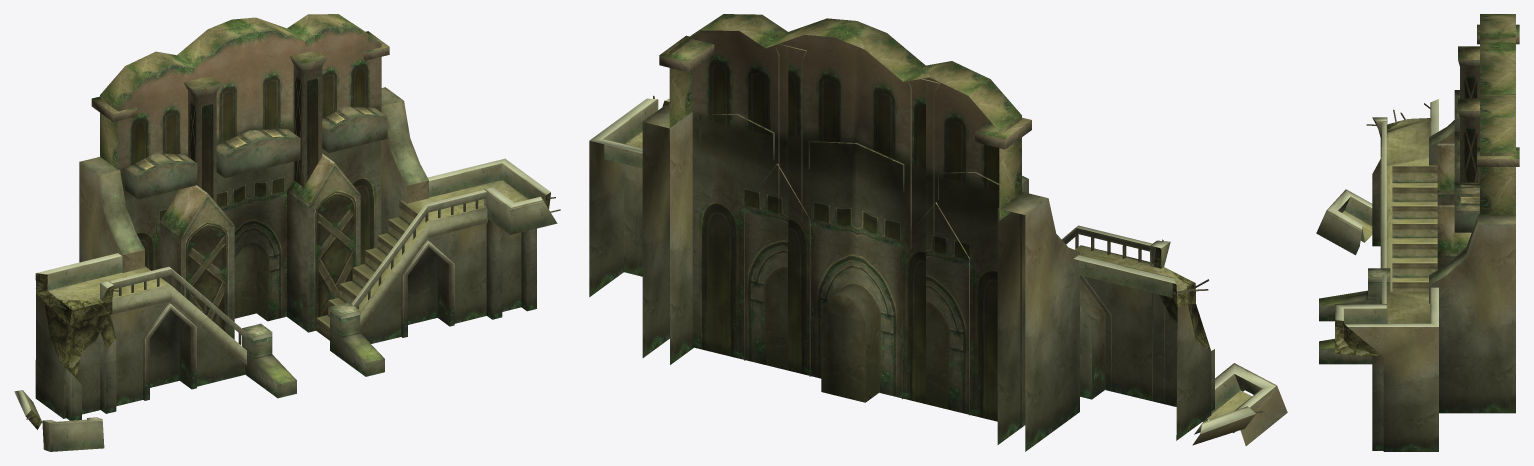
The model's file is CZ_Chengbao.FBX.
3 views of the same model, side by side, from view 1: azimuth 30°, elevation 25°; view 2: azimuth 150°, elevation 25°; view 3: azimuth 270°, elevation 25° (orthographic). The views are drawn at different scales.
Parts seen in each view (by area): view 1: CZ_Chengbao; view 2: CZ_Chengbao; view 3: CZ_Chengbao.
Boxes of the visible parts, <box> form: CZ_Chengbao: <box>14,14,560,451</box>; CZ_Chengbao: <box>589,14,1287,451</box>; CZ_Chengbao: <box>1316,14,1519,451</box>.
Bounding box in the file's own units: 848 × 500 × 293.
1 material, 1 textured.
